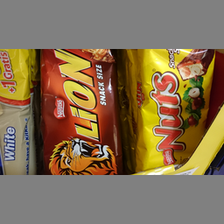chocolate: (39, 49, 121, 177), (130, 50, 213, 170)
